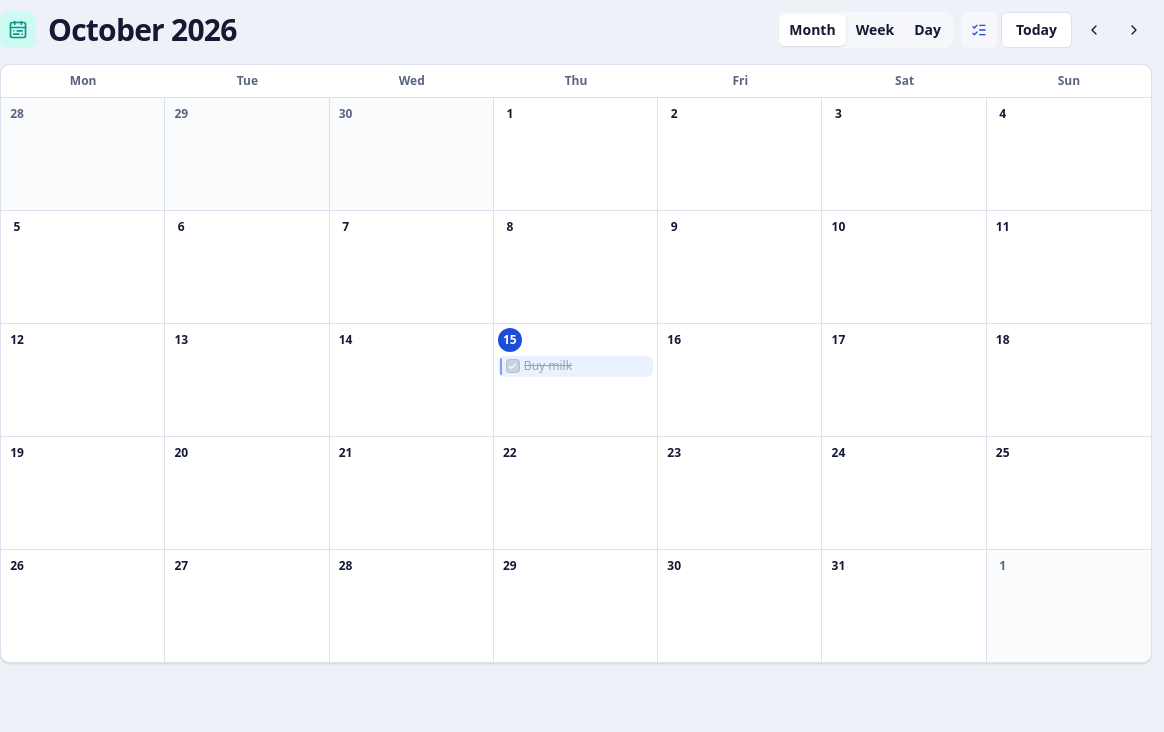
Test case: CalendarView's Closed toggle › still toggles when browser storage is unavailable
Expected: the text "Buy milk" is shown, [524, 357, 572, 374]
Click the button named "Show Closed Tasks": (979, 30) [961, 12, 997, 48]
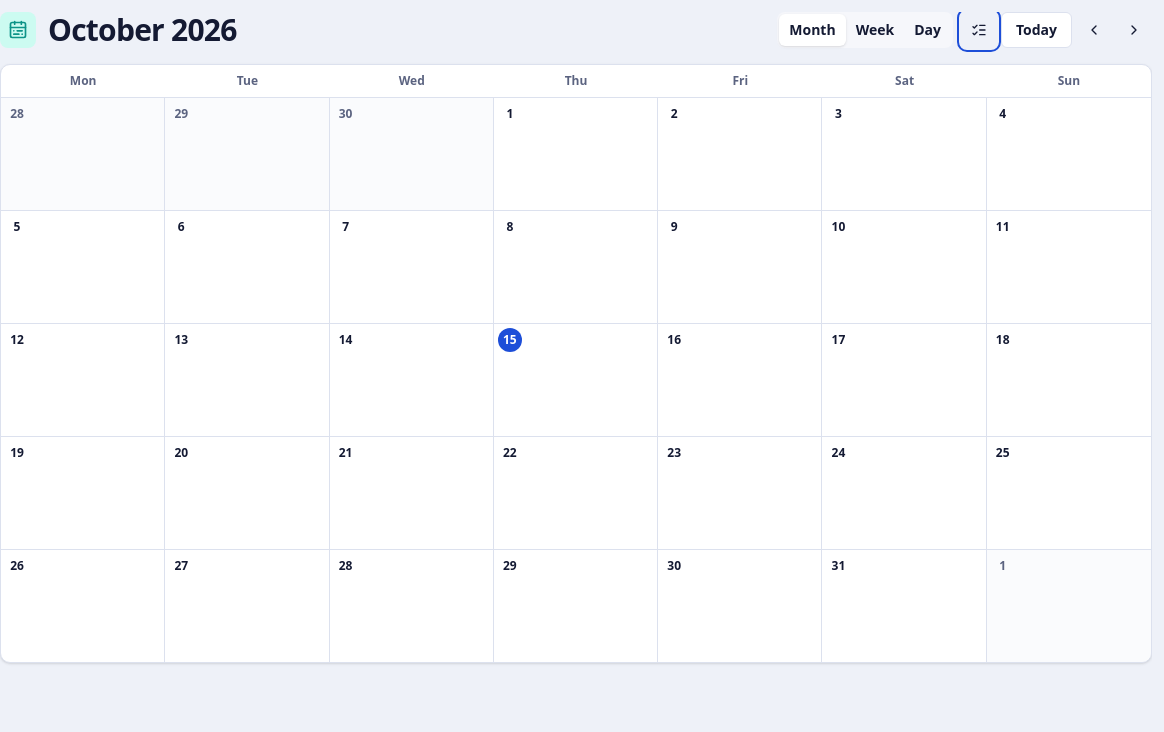
Now the button "Buy milk" is gone
